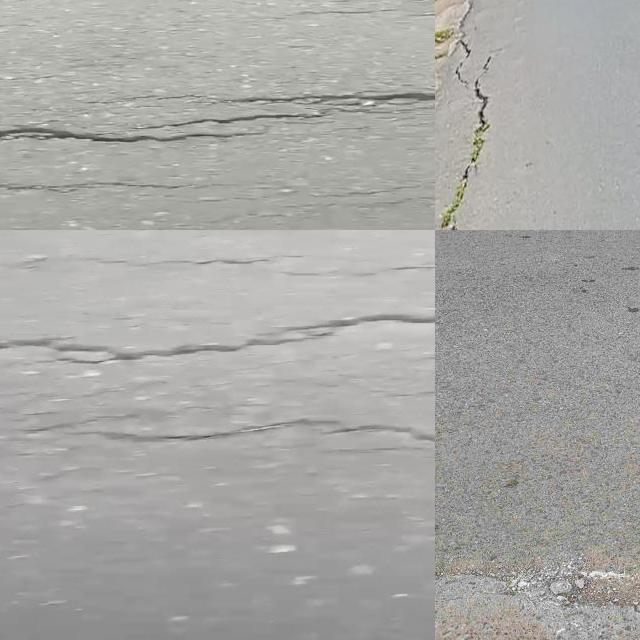Melintang: (0, 79, 435, 159), (0, 301, 435, 381), (80, 406, 435, 458)
Memanjang: (440, 47, 509, 230)
